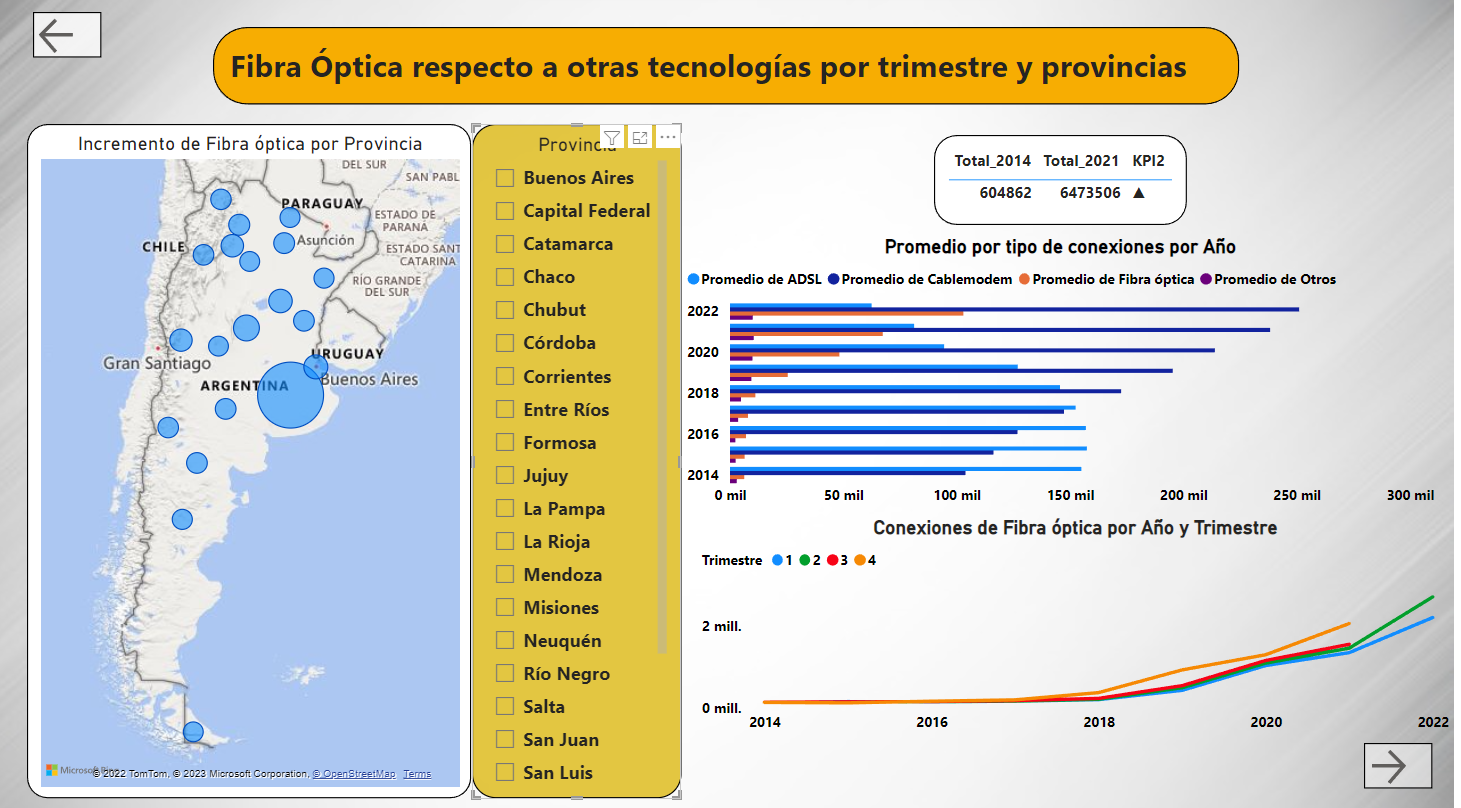

The dashboard page shown, as its layout file describes it:
{"tool":"powerbi","page":{"name":"Fibra Óptica vs Otras Tecnologías","canvas":[1280,720],"ordinal":2},"visuals":[{"type":"lineChart","title":"Conexiones de Fibra óptica por Año y Trimestre","fields":{"Category":["Acceso_a_Internet_fijo_por_tecnología_y_provincia (2).Año"],"Series":["Acceso_a_Internet_fijo_por_tecnología_y_provincia (2).Trimestre"],"Y":["Sum(Acceso_a_Internet_fijo_por_tecnología_y_provincia (2).Fibra óptica)"]},"box":[613.6,372.4,666.8,199.5],"z":0},{"type":"map","title":"Incremento de Fibra óptica por Provincia","fields":{"Category":["Acceso_a_Internet_fijo_por_tecnología_y_provincia (2).Provincia"],"Size":["Sum(Acceso_a_Internet_fijo_por_tecnología_y_provincia (2).Fibra óptica)"]},"box":[26.6,113.5,390.1,592.3],"z":1000},{"type":"clusteredBarChart","title":"Promedio por tipo de conexiones por Año","fields":{"Category":["Acceso_a_Internet_fijo_por_tecnología_y_provincia (2).Año"],"Y":["Avg(Acceso_a_Internet_fijo_por_tecnología_y_provincia (2).ADSL)","Avg(Acceso_a_Internet_fijo_por_tecnología_y_provincia (2).Cablemodem)","Avg(Acceso_a_Internet_fijo_por_tecnología_y_provincia (2).Fibra óptica)","Avg(Acceso_a_Internet_fijo_por_tecnología_y_provincia (2).Otros)"]},"box":[613.6,113.5,666.8,246.5],"z":2000},{"type":"slicer","title":"Provincia","fields":{"Values":["Acceso_a_Internet_fijo_por_tecnología_y_provincia (2).Provincia"]},"box":[416.7,113.5,183.5,592.3],"z":3000},{"type":"actionButton","box":[31.9,15.1,60.3,39.9],"z":4000},{"type":"actionButton","box":[1200.6,657,60.3,39.9],"z":5000},{"type":"textbox","box":[189.7,28.1,900.9,67.6],"z":6000},{"type":"tableEx","fields":{"Values":["Acceso_a_Internet_fijo_por_tecnología_y_provincia (2).Total_2014","Acceso_a_Internet_fijo_por_tecnología_y_provincia (2).Total_2021","Acceso_a_Internet_fijo_por_tecnología_y_provincia (2).KPI2"]},"box":[803.4,598.3,222.2,78.4],"z":7000}]}

Visuals, with their boxes in screenshot pixels (x1, y1, x2, y2), scaled from the page's 1280x720 canvas onto the 1461x808 screenshot:
"Conexiones de Fibra óptica por Año y Trimestre" lineChart: BBox(700, 418, 1460, 642)
"Incremento de Fibra óptica por Provincia" map: BBox(30, 127, 476, 792)
"Promedio por tipo de conexiones por Año" clusteredBarChart: BBox(700, 127, 1460, 404)
"Provincia" slicer: BBox(476, 127, 685, 792)
actionButton: BBox(36, 17, 105, 62)
actionButton: BBox(1370, 737, 1439, 782)
textbox: BBox(217, 32, 1245, 107)
tableEx - Acceso_a_Internet_fijo_por_tecnología_y_provincia (2).Total_2014 x Acceso_a_Internet_fijo_por_tecnología_y_provincia (2).Total_2021: BBox(917, 671, 1171, 759)
